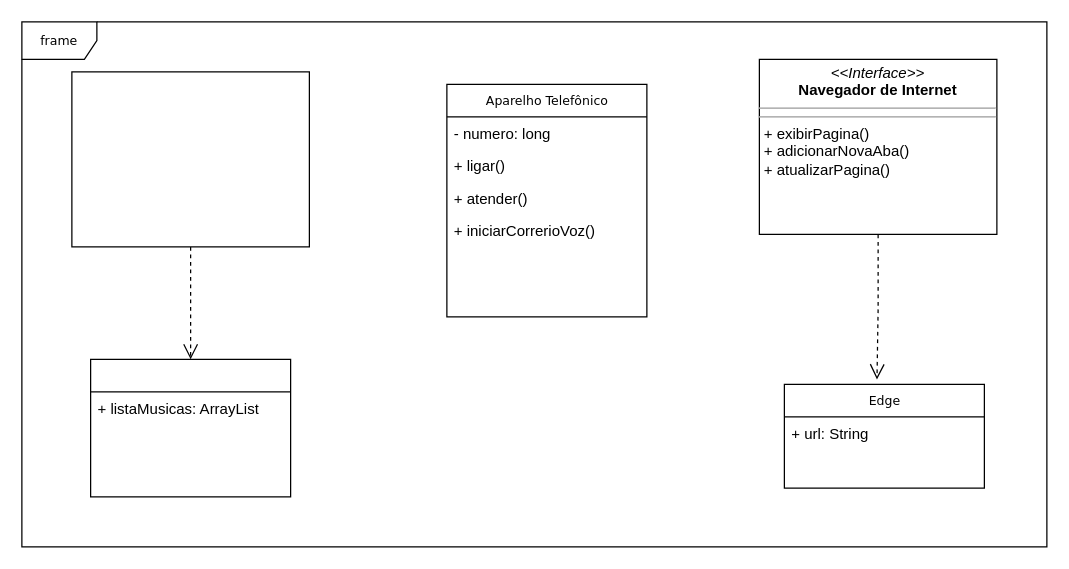
This 1069x569 diagram has some shape labels left out. Each missing label, with the box of its shape:
<<Interface>> Reprodutor Midia + tocar() + pausar() + selecionarMusica(): (71, 71, 309, 247)
PlayMusica: (89, 358, 291, 497)
